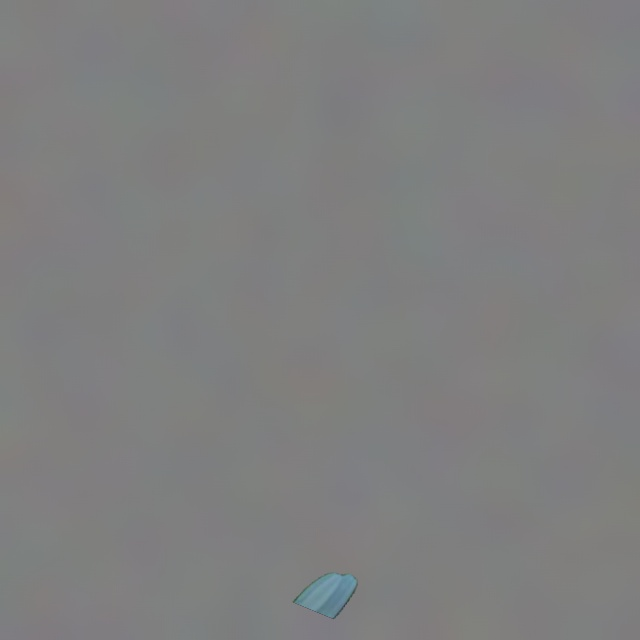daisy: (293, 573, 356, 618)
